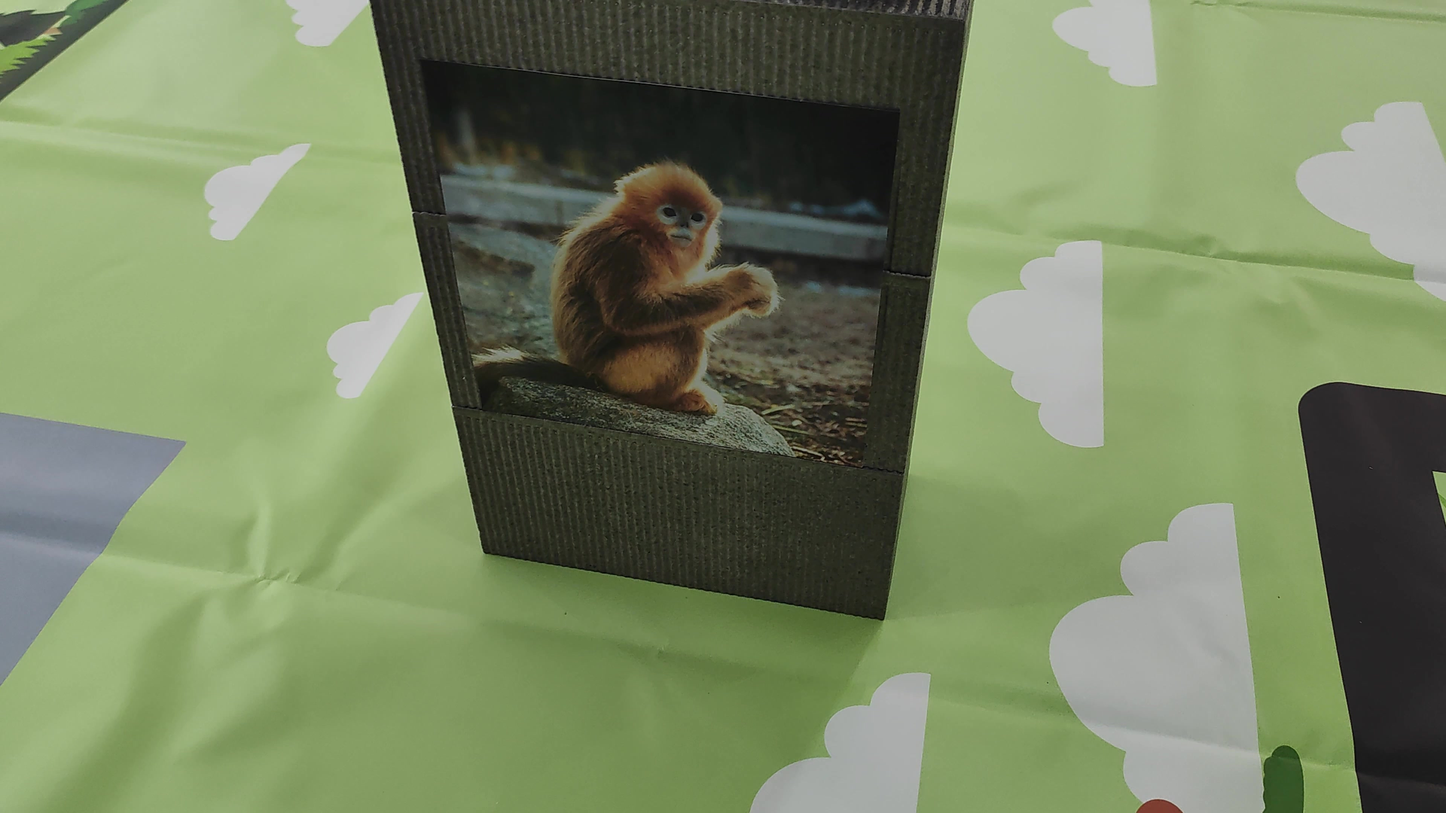monkey: (512, 141, 819, 420)
